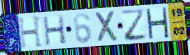6: (72, 12, 94, 45)
H: (17, 15, 45, 50), (41, 14, 68, 47), (145, 7, 170, 40)
X: (94, 9, 120, 44)
Z: (120, 8, 148, 42)
